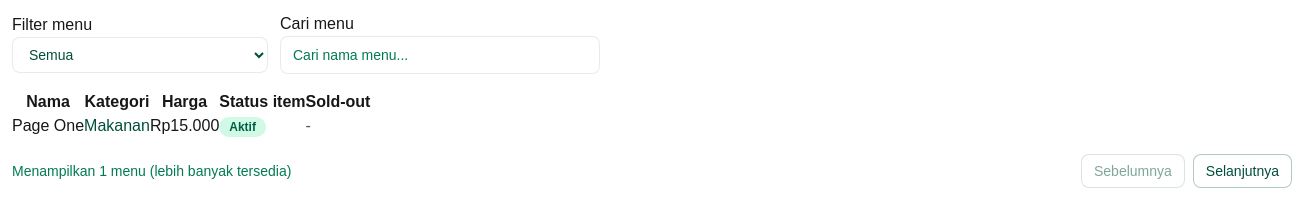
it: useMenuItemsQuery behavior › resets pagination history on filter or search change
The image size is (1304, 205).
Expected: the text "Page One" is shown, [12, 114, 84, 138]
Click the button with aria-label "Halaman selanjutnya". click: [1242, 171]
box: [1193, 154, 1292, 188]
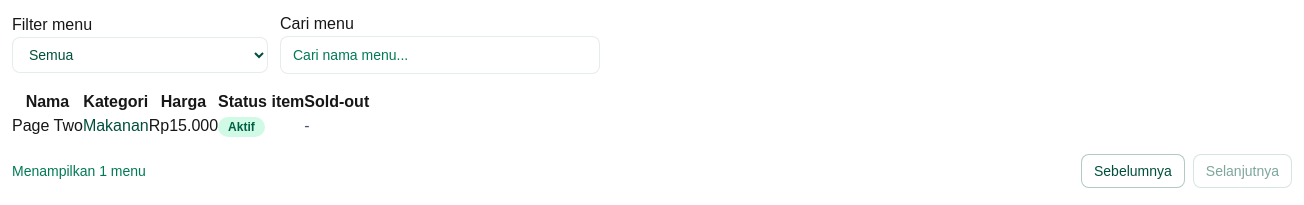
Expected: the text "Page Two" is shown, [12, 114, 83, 138]
Select "Aktif" in the dropdown labelled "Filter menu". click: [140, 55]
box: [12, 37, 268, 73]
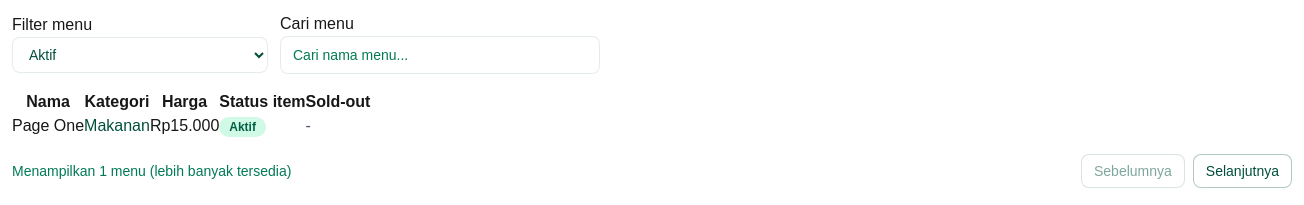
Expected: the button with aria-label "Halaman sebelumnya" is disabled, [1081, 154, 1185, 188]
